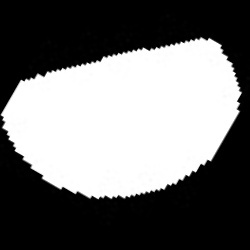spot: (1, 39, 242, 200)
